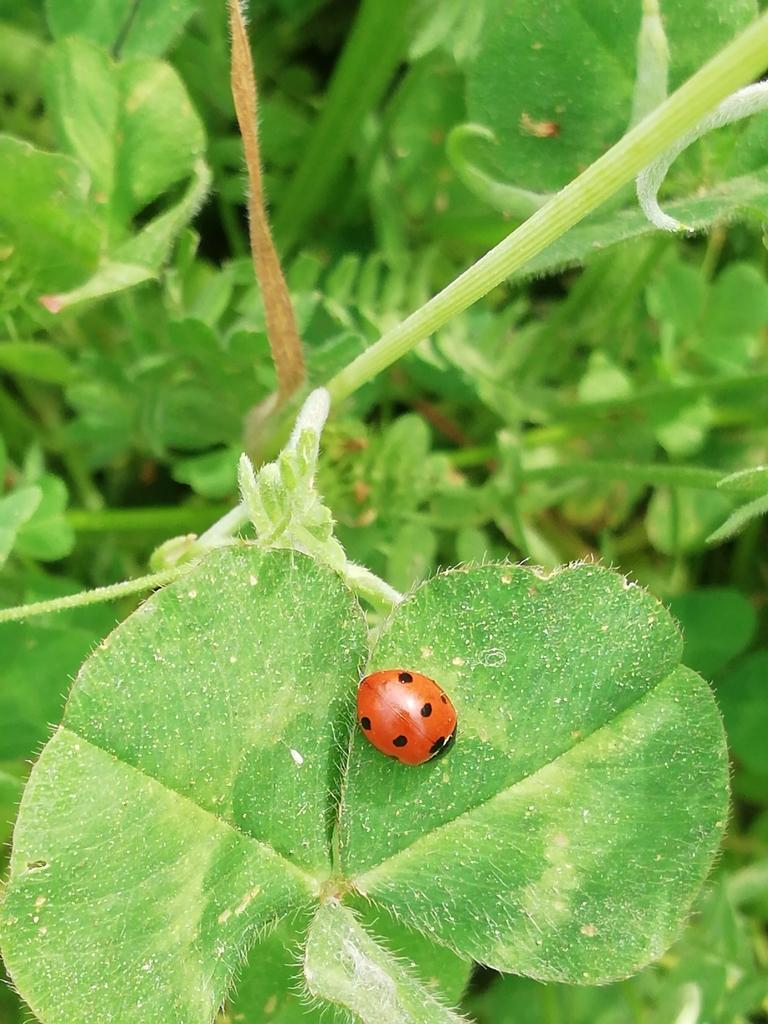ladybug: (354, 664, 464, 771)
